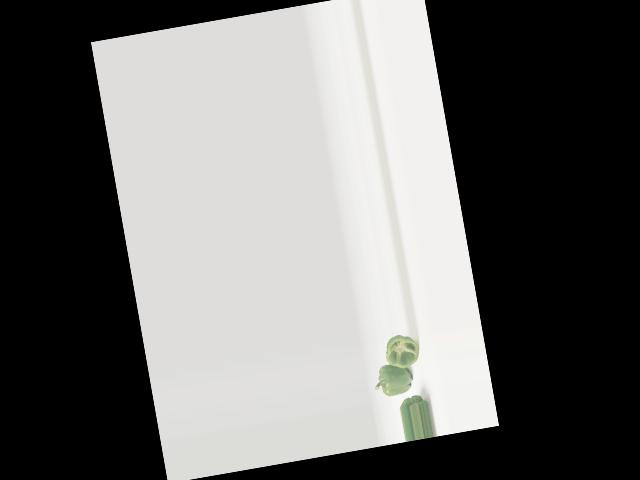bell_pepper: (379, 330, 424, 373)
